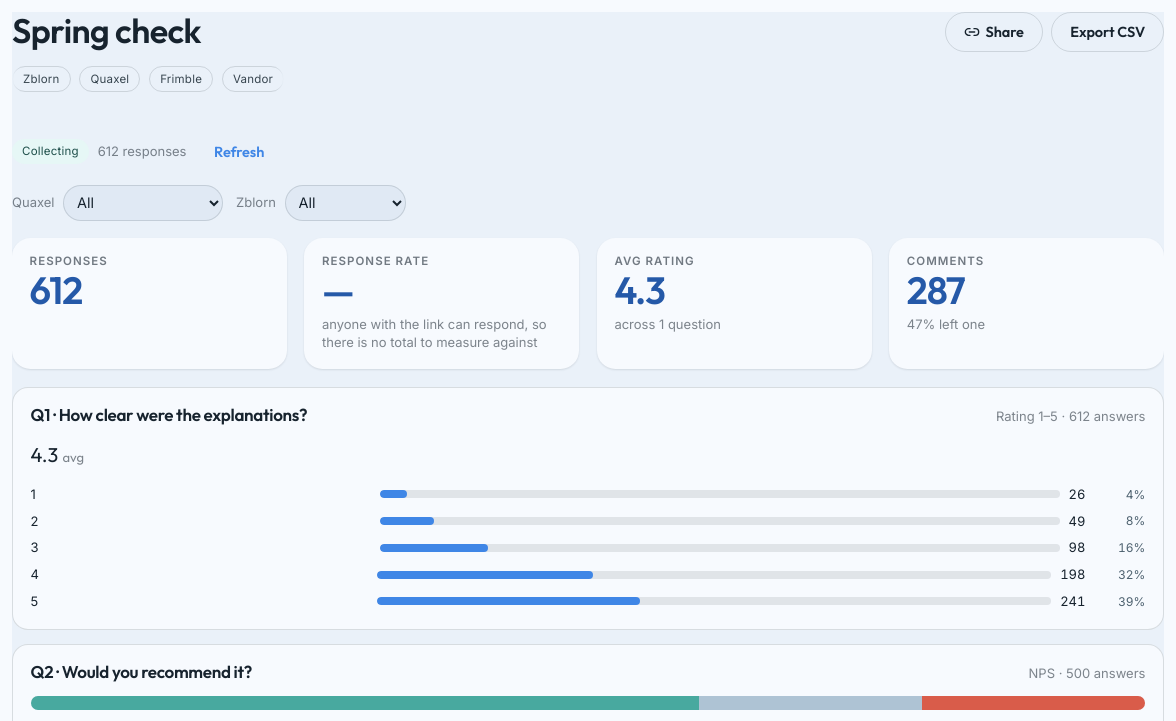
export › shows the plan message in place rather than navigating to raw JSON
Click the button "Export CSV" at (1108,32), box [1051,12,1164,52]
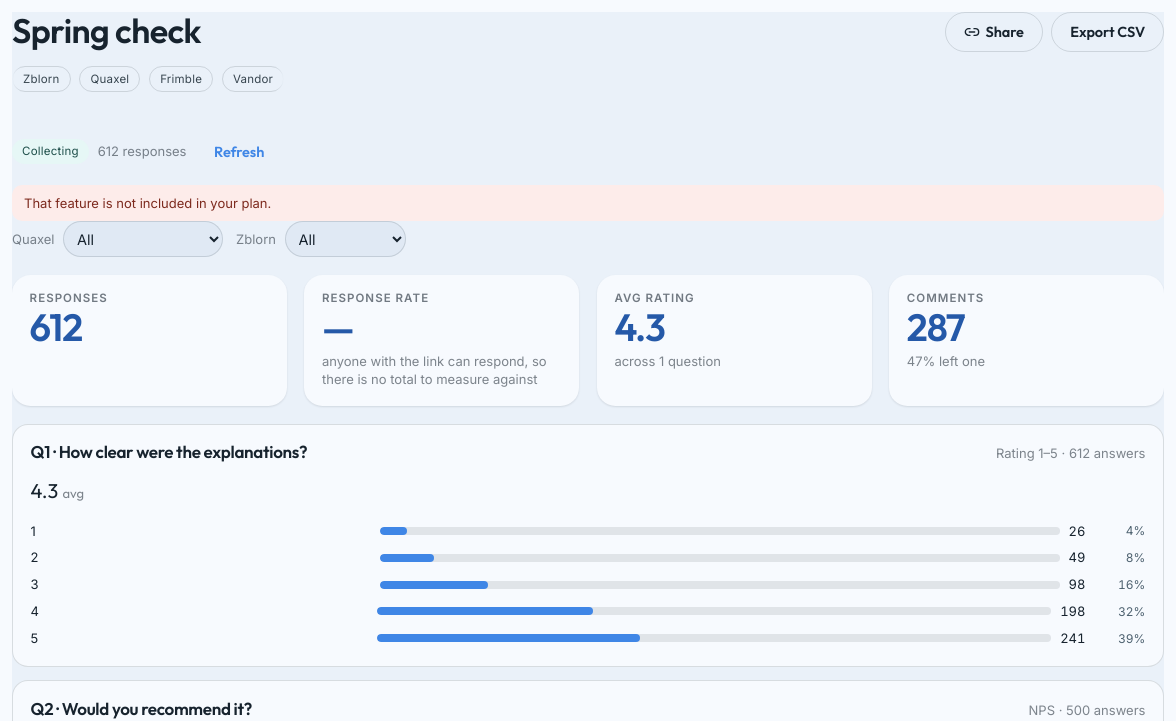
expect the message shows "not included in your plan": met, box [24,195,271,211]
